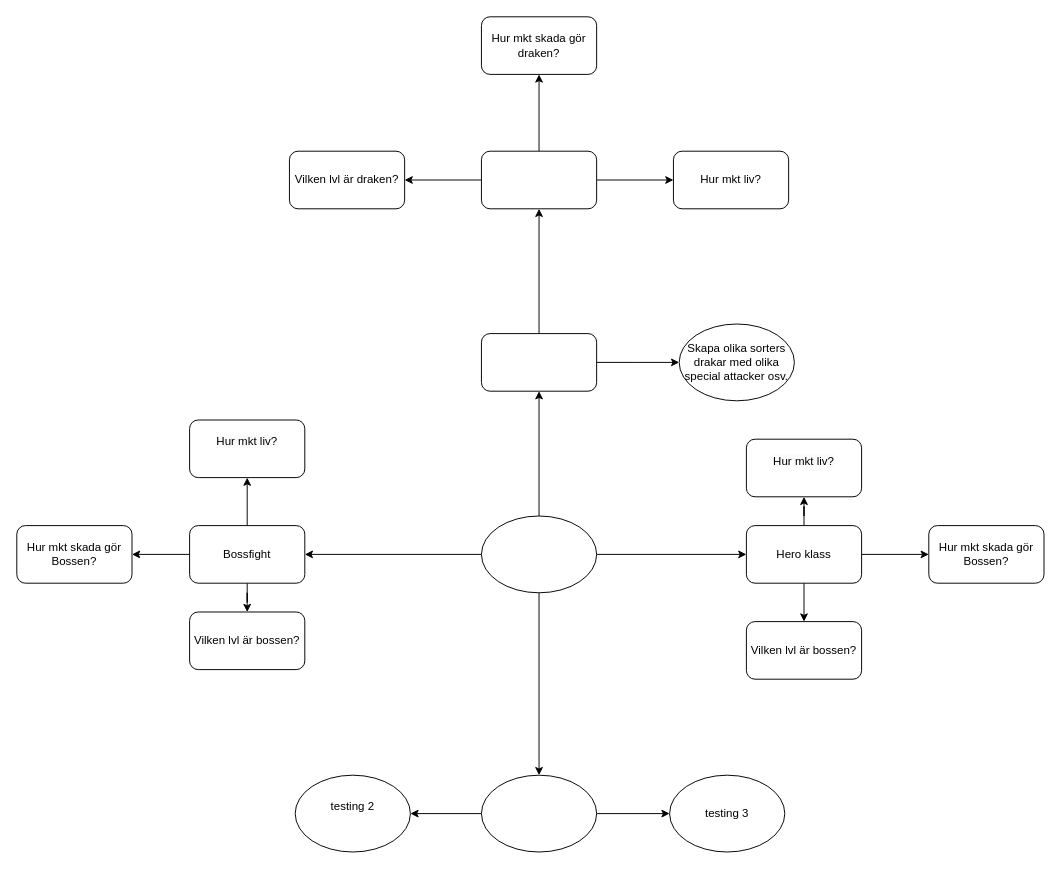
Some shapes in this 1061 by 869 pixel diagram are drawn without their labels. The box of each missing label's shape, as (x1, y1, x2, y2) in pixels:
DragonSlayer: (480, 774, 597, 852)
Drak-klass: (480, 333, 597, 391)
Skapa klasser: (480, 515, 597, 593)
Specs: (480, 150, 597, 209)
